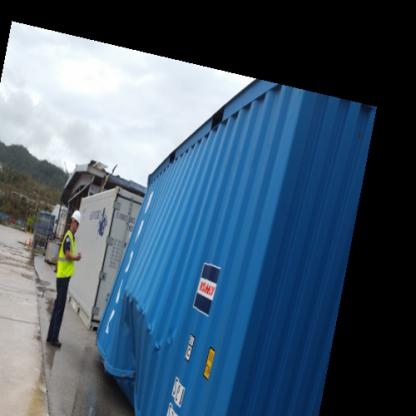Damage: (85, 280, 179, 397)
